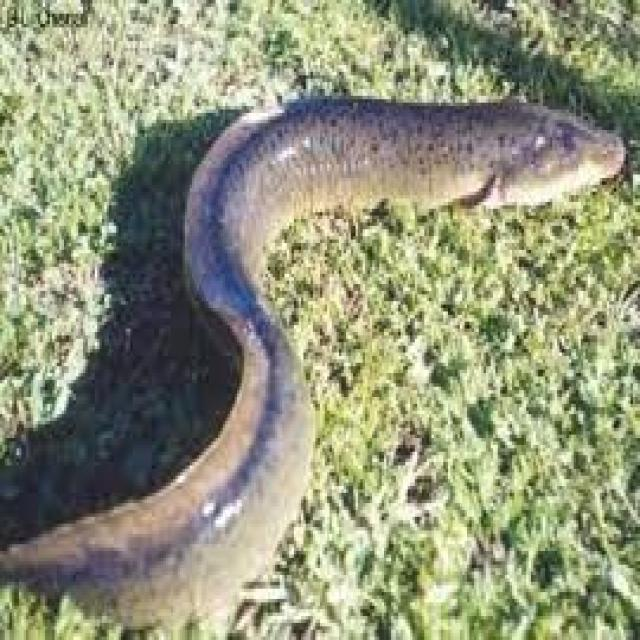Freshwater-Eel: (0, 29, 640, 597)
